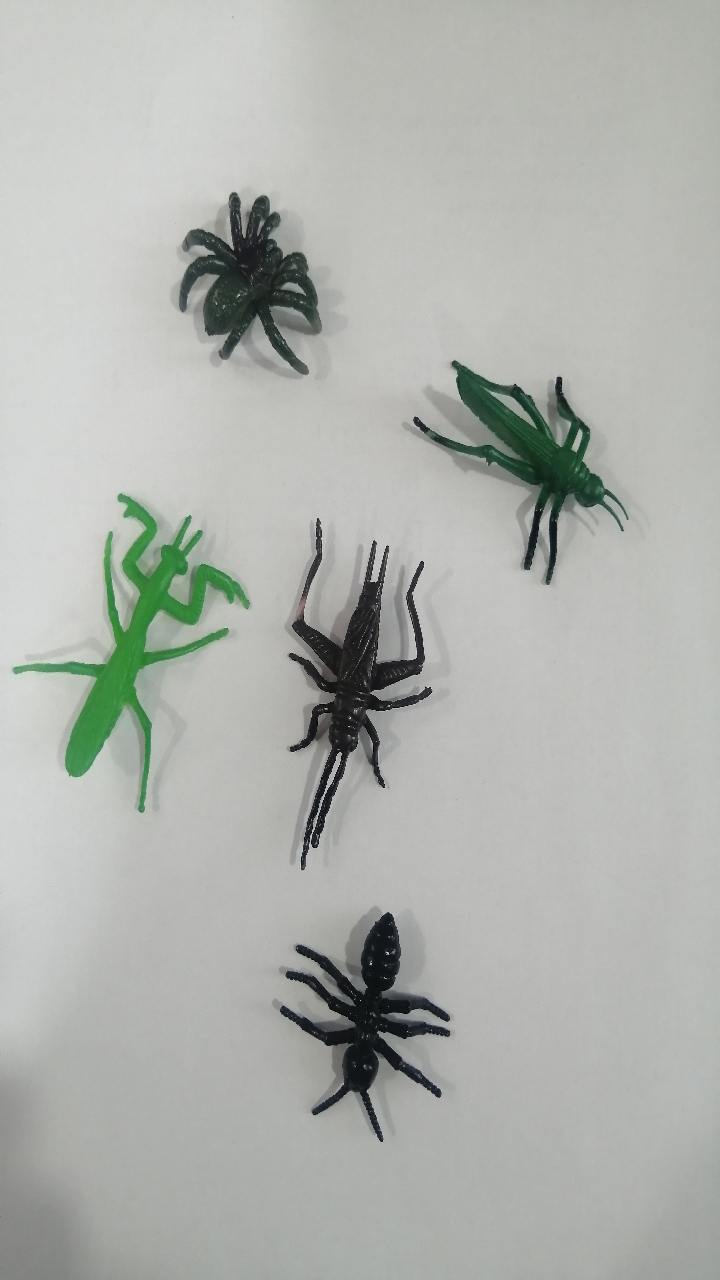intruso: (12, 452, 252, 842), (374, 319, 643, 614), (257, 494, 448, 891), (231, 871, 481, 1163), (140, 142, 349, 412)
